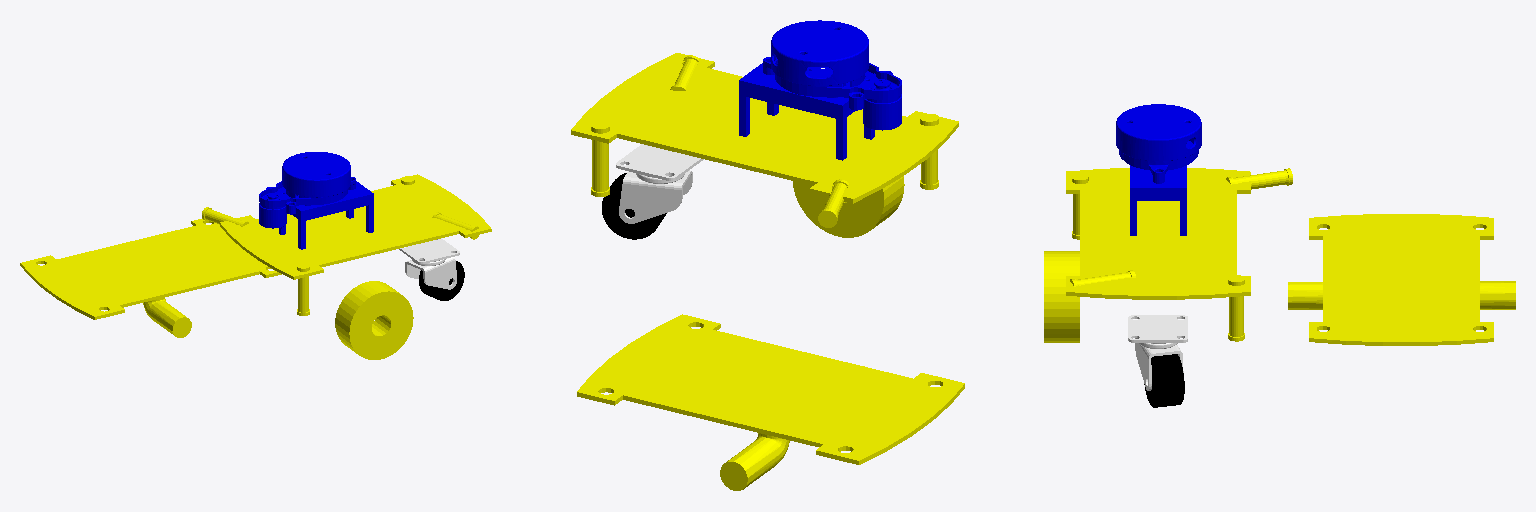
robot.urdf — ydpibot:
<?xml version="1.0" encoding="utf-8"?>
<!-- This URDF was automatically created by SolidWorks to URDF Exporter! Originally created by [author] ([email redacted]) 
     Commit Version: 1.6.0-4-g7f85cfe  Build Version: 1.6.7995.38578
     For more information, please see http://wiki.ros.org/sw_urdf_exporter -->
<robot
  name="ydpibot">
  <link
    name="base_link">
    <inertial>
      <origin
        xyz="0.093495 0.094111 0.17099"
        rpy="0 0 0" />
      <mass
        value="0.11353" />
      <inertia
        ixx="0.0002007"
        ixy="-9.7266E-06"
        ixz="4.5129E-19"
        iyy="0.00047883"
        iyz="-1.7537E-21"
        izz="0.00030078" />
    </inertial>
    <visual>
      <origin
        xyz="0 0 0"
        rpy="0 0 0" />
      <geometry>
        <mesh
          filename="package://ydpibot_description/meshes/base_link.STL" />
      </geometry>
      <material
        name="">
        <color
          rgba="255 165 0 1" />
      </material>
    </visual>
    <collision>
      <origin
        xyz="0 0 0"
        rpy="0 0 0" />
      <geometry>
        <mesh
          filename="package://ydpibot_description/meshes/base_link.STL" />
      </geometry>
    </collision>
  </link>
  <link
    name="Base_upper">
    <inertial>
      <origin
        xyz="-0.00023228 0.0015 2.7756E-17"
        rpy="0 0 0" />
      <mass
        value="0.072243" />
      <inertia
        ixx="7.9419E-05"
        ixy="7.2901E-21"
        ixz="2.2789E-19"
        iyy="0.00035752"
        iyz="-3.7269E-21"
        izz="0.00027821" />
    </inertial>
    <visual>
      <origin
        xyz="0 0 0"
        rpy="0 0 0" />
      <geometry>
        <mesh
          filename="package://ydpibot_description/meshes/Base_upper.STL" />
      </geometry>
      <material
        name="">
        <color
          rgba="255 165 0 1" />
      </material>
    </visual>
    <collision>
      <origin
        xyz="0 0 0"
        rpy="0 0 0" />
      <geometry>
        <mesh
          filename="package://ydpibot_description/meshes/Base_upper.STL" />
      </geometry>
    </collision>
  </link>
  <joint
    name="Base_upper_joint"
    type="fixed">
    <origin
      xyz="0.10092 -0.17099 0.13642"
      rpy="1.5708 0 0" />
    <parent
      link="base_link" />
    <child
      link="Base_upper" />
    <axis
      xyz="0 0 0" />
  </joint>
  <link
    name="spacer1">
    <inertial>
      <origin
        xyz="8.3267E-17 -0.017 -2.7756E-17"
        rpy="0 0 0" />
      <mass
        value="0.0038202" />
      <inertia
        ixx="7.5881E-07"
        ixy="4.9502E-23"
        ixz="0"
        iyy="5.1484E-08"
        iyz="-2.6834E-23"
        izz="7.5881E-07" />
    </inertial>
    <visual>
      <origin
        xyz="0 0 0"
        rpy="0 0 0" />
      <geometry>
        <mesh
          filename="package://ydpibot_description/meshes/spacer1.STL" />
      </geometry>
      <material
        name="">
        <color
          rgba="139 64 0 1" />
      </material>
    </visual>
    <collision>
      <origin
        xyz="0 0 0"
        rpy="0 0 0" />
      <geometry>
        <mesh
          filename="package://ydpibot_description/meshes/spacer1.STL" />
      </geometry>
    </collision>
  </link>
  <joint
    name="spacer1_joint"
    type="continuous">
    <origin
      xyz="0.084615 0 -0.055"
      rpy="0 0.33559 0" />
    <parent
      link="Base_upper" />
    <child
      link="spacer1" />
    <axis
      xyz="0 1 0" />
  </joint>
  <link
    name="spacer2">
    <inertial>
      <origin
        xyz="1.3878E-16 -0.017 5.5511E-17"
        rpy="0 0 0" />
      <mass
        value="0.0038202" />
      <inertia
        ixx="7.5881E-07"
        ixy="3.3914E-23"
        ixz="0"
        iyy="5.1484E-08"
        iyz="-2.2598E-23"
        izz="7.5881E-07" />
    </inertial>
    <visual>
      <origin
        xyz="0 0 0"
        rpy="0 0 0" />
      <geometry>
        <mesh
          filename="package://ydpibot_description/meshes/spacer2.STL" />
      </geometry>
      <material
        name="">
        <color
          rgba="139 64 0 1" />
      </material>
    </visual>
    <collision>
      <origin
        xyz="0 0 0"
        rpy="0 0 0" />
      <geometry>
        <mesh
          filename="package://ydpibot_description/meshes/spacer2.STL" />
      </geometry>
    </collision>
  </link>
  <joint
    name="spacer2_joint"
    type="continuous">
    <origin
      xyz="0.084615 0 0.055"
      rpy="0 0.33674 0" />
    <parent
      link="Base_upper" />
    <child
      link="spacer2" />
    <axis
      xyz="0 1 0" />
  </joint>
  <link
    name="spacer3">
    <inertial>
      <origin
        xyz="0 -0.017 0"
        rpy="0 0 0" />
      <mass
        value="0.0038202" />
      <inertia
        ixx="7.5881E-07"
        ixy="2.3253E-23"
        ixz="0"
        iyy="5.1484E-08"
        iyz="-1.7306E-23"
        izz="7.5881E-07" />
    </inertial>
    <visual>
      <origin
        xyz="0 0 0"
        rpy="0 0 0" />
      <geometry>
        <mesh
          filename="package://ydpibot_description/meshes/spacer3.STL" />
      </geometry>
      <material
        name="">
        <color
          rgba="139 64 0 1" />
      </material>
    </visual>
    <collision>
      <origin
        xyz="0 0 0"
        rpy="0 0 0" />
      <geometry>
        <mesh
          filename="package://ydpibot_description/meshes/spacer3.STL" />
      </geometry>
    </collision>
  </link>
  <joint
    name="spacer3_joint"
    type="continuous">
    <origin
      xyz="-0.084615 0 -0.055"
      rpy="0 0.33674 0" />
    <parent
      link="Base_upper" />
    <child
      link="spacer3" />
    <axis
      xyz="0 1 0" />
  </joint>
  <link
    name="spacer4">
    <inertial>
      <origin
        xyz="-2.4286E-17 -0.017 2.7756E-17"
        rpy="0 0 0" />
      <mass
        value="0.0038202" />
      <inertia
        ixx="7.5881E-07"
        ixy="1.4302E-23"
        ixz="0"
        iyy="5.1484E-08"
        iyz="3.294E-24"
        izz="7.5881E-07" />
    </inertial>
    <visual>
      <origin
        xyz="0 0 0"
        rpy="0 0 0" />
      <geometry>
        <mesh
          filename="package://ydpibot_description/meshes/spacer4.STL" />
      </geometry>
      <material
        name="">
        <color
          rgba="139 64 0 1" />
      </material>
    </visual>
    <collision>
      <origin
        xyz="0 0 0"
        rpy="0 0 0" />
      <geometry>
        <mesh
          filename="package://ydpibot_description/meshes/spacer4.STL" />
      </geometry>
    </collision>
  </link>
  <joint
    name="spacer4_joint"
    type="continuous">
    <origin
      xyz="-0.084615 0 0.055"
      rpy="0 0.14715 0" />
    <parent
      link="Base_upper" />
    <child
      link="spacer4" />
    <axis
      xyz="0 1 0" />
  </joint>
  <link
    name="Lidar">
    <inertial>
      <origin
        xyz="-0.010012 -1.8596E-15 -0.015783"
        rpy="0 0 0" />
      <mass
        value="0.032124" />
      <inertia
        ixx="6.0421E-06"
        ixy="-8.4683E-20"
        ixz="8.0983E-21"
        iyy="1.7716E-05"
        iyz="2.0381E-21"
        izz="2.1195E-05" />
    </inertial>
    <visual>
      <origin
        xyz="0 0 0"
        rpy="0 0 0" />
      <geometry>
        <mesh
          filename="package://ydpibot_description/meshes/Lidar.STL" />
      </geometry>
      <material
        name="">
        <color
          rgba="0 0 255 1" />
      </material>
    </visual>
    <collision>
      <origin
        xyz="0 0 0"
        rpy="0 0 0" />
      <geometry>
        <mesh
          filename="package://ydpibot_description/meshes/Lidar.STL" />
      </geometry>
    </collision>
  </link>
  <joint
    name="Lidar_joint"
    type="fixed">
    <origin
      xyz="-0.039725 0.04948 0"
      rpy="1.5708 0 -3.1416" />
    <parent
      link="Base_upper" />
    <child
      link="Lidar" />
    <axis
      xyz="0 0 0" />
  </joint>
  <link
    name="Wheel1">
    <inertial>
      <origin
        xyz="0 -1.3878E-17 0.0125"
        rpy="0 0 0" />
      <mass
        value="0.075104" />
      <inertia
        ixx="2.5621E-05"
        ixy="-2.9995E-39"
        ixz="-4.4116E-23"
        iyy="2.5621E-05"
        iyz="-7.1293E-38"
        izz="4.3419E-05" />
    </inertial>
    <visual>
      <origin
        xyz="0 0 0"
        rpy="0 0 0" />
      <geometry>
        <mesh
          filename="package://ydpibot_description/meshes/Wheel1.STL" />
      </geometry>
      <material
        name="">
        <color
          rgba="2551 255 0 1" />
      </material>
    </visual>
    <collision>
      <origin
        xyz="0 0 0"
        rpy="0 0 0" />
      <geometry>
        <mesh
          filename="package://ydpibot_description/meshes/Wheel1.STL" />
      </geometry>
    </collision>
  </link>
  <joint
    name="Wheel1_joint"
    type="continuous">
    <origin
      xyz="0.080916 -0.090994 0.079422"
      rpy="1.5708 0 0" />
    <parent
      link="base_link" />
    <child
      link="Wheel1" />
    <axis
      xyz="0 0 1" />
  </joint>
  <link
    name="Wheel2">
    <inertial>
      <origin
        xyz="0 0 0.0125"
        rpy="0 0 0" />
      <mass
        value="0.075104" />
      <inertia
        ixx="2.5621E-05"
        ixy="-2.9995E-39"
        ixz="-5.4594E-37"
        iyy="2.5621E-05"
        iyz="-7.1293E-38"
        izz="4.3419E-05" />
    </inertial>
    <visual>
      <origin
        xyz="0 0 0"
        rpy="0 0 0" />
      <geometry>
        <mesh
          filename="package://ydpibot_description/meshes/Wheel2.STL" />
      </geometry>
      <material
        name="">
        <color
          rgba="255 255 0 1" />
      </material>
    </visual>
    <collision>
      <origin
        xyz="0 0 0"
        rpy="0 0 0" />
      <geometry>
        <mesh
          filename="package://ydpibot_description/meshes/Wheel2.STL" />
      </geometry>
    </collision>
  </link>
  <joint
    name="Wheel2_joint"
    type="continuous">
    <origin
      xyz="0.080916 -0.22599 0.079422"
      rpy="1.5708 0 0" />
    <parent
      link="base_link" />
    <child
      link="Wheel2" />
    <axis
      xyz="0 0 1" />
  </joint>
  <link
    name="Caster Wheel Base">
    <inertial>
      <origin
        xyz="0.017052 0.003709 -0.0125"
        rpy="0 0 0" />
      <mass
        value="0.044833" />
      <inertia
        ixx="4.8267E-06"
        ixy="-4.6606E-24"
        ixz="-5.0406E-22"
        iyy="9.3882E-06"
        iyz="-4.8531E-22"
        izz="4.8267E-06" />
    </inertial>
    <visual>
      <origin
        xyz="0 0 0"
        rpy="0 0 0" />
      <geometry>
        <mesh
          filename="package://ydpibot_description/meshes/Caster Wheel Base.STL" />
      </geometry>
      <material
        name="">
        <color
          rgba="128 128 128 1" />
      </material>
    </visual>
    <collision>
      <origin
        xyz="0 0 0"
        rpy="0 0 0" />
      <geometry>
        <mesh
          filename="package://ydpibot_description/meshes/Caster Wheel Base.STL" />
      </geometry>
    </collision>
  </link>
  <joint
    name="Caster Wheel Base_joint"
    type="fixed">
    <origin
      xyz="0.15791 -0.18349 0.093422"
      rpy="1.5708 0 0" />
    <parent
      link="base_link" />
    <child
      link="Caster Wheel Base" />
    <axis
      xyz="0 0 0" />
  </joint>
  <link
    name="Caster Wheel cage">
    <inertial>
      <origin
        xyz="0.019414 -0.0053453 -0.0125"
        rpy="0 0 0" />
      <mass
        value="0.056621" />
      <inertia
        ixx="7.5423E-06"
        ixy="8.202E-07"
        ixz="9.6169E-12"
        iyy="1.077E-05"
        iyz="-4.6142E-11"
        izz="8.0977E-06" />
    </inertial>
    <visual>
      <origin
        xyz="0 0 0"
        rpy="0 0 0" />
      <geometry>
        <mesh
          filename="package://ydpibot_description/meshes/Caster Wheel cage.STL" />
      </geometry>
      <material
        name="">
        <color
          rgba="211 211 211 1" />
      </material>
    </visual>
    <collision>
      <origin
        xyz="0 0 0"
        rpy="0 0 0" />
      <geometry>
        <mesh
          filename="package://ydpibot_description/meshes/Caster Wheel cage.STL" />
      </geometry>
    </collision>
  </link>
  <joint
    name="Caster Wheel cage_joint"
    type="continuous">
    <origin
      xyz="0.0037189 -0.004 0.0039088"
      rpy="0 0.25588 0" />
    <parent
      link="Caster Wheel Base" />
    <child
      link="Caster Wheel cage" />
    <axis
      xyz="0 0 0" />
  </joint>
  <link
    name="Caster Wheel">
    <inertial>
      <origin
        xyz="1.3878E-17 0 2.7756E-17"
        rpy="0 0 0" />
      <mass
        value="0.017472" />
      <inertia
        ixx="2.2415E-06"
        ixy="9.4299E-23"
        ixz="-6.2866E-22"
        iyy="2.2415E-06"
        iyz="-1.7999E-21"
        izz="3.5831E-06" />
    </inertial>
    <visual>
      <origin
        xyz="0 0 0"
        rpy="0 0 0" />
      <geometry>
        <mesh
          filename="package://ydpibot_description/meshes/Caster Wheel.STL" />
      </geometry>
      <material
        name="">
        <color
          rgba="0 0 0 1" />
      </material>
    </visual>
    <collision>
      <origin
        xyz="0 0 0"
        rpy="0 0 0" />
      <geometry>
        <mesh
          filename="package://ydpibot_description/meshes/Caster Wheel.STL" />
      </geometry>
    </collision>
  </link>
  <joint
    name="Caster Wheel_joint"
    type="fixed">
    <origin
      xyz="0.033052 -0.023 -0.0125"
      rpy="0 0 1.7635" />
    <parent
      link="Caster Wheel cage" />
    <child
      link="Caster Wheel" />
    <axis
      xyz="0 0 0" />
  </joint>
</robot>

--- Render facts (derived) ---
Views: 3 orthographic renders of the robot side by side, from view 1: azimuth 30°, elevation 25°; view 2: azimuth 150°, elevation 25°; view 3: azimuth 270°, elevation 25°.
Model ydpibot with 12 links and 11 joints (7 continuous, 4 fixed), rooted at base_link, posed every joint at zero.
Links seen in each view (by area): view 1: base_link, Base_upper, Lidar, Wheel2, Caster Wheel cage, Caster Wheel Base, Caster Wheel, spacer4; view 2: base_link, Base_upper, Lidar, Wheel2, Caster Wheel cage, Caster Wheel Base, Caster Wheel, spacer1, spacer4, spacer3; view 3: base_link, Base_upper, Lidar, Wheel2, Caster Wheel, Caster Wheel Base, Caster Wheel cage, spacer1, spacer3.
Boxes of the visible links, box(x1,y1,x2,y2) form: base_link: box(20, 219, 281, 337); Base_upper: box(220, 174, 491, 279); Lidar: box(259, 152, 373, 249); Wheel2: box(335, 281, 413, 359); Caster Wheel cage: box(405, 257, 456, 289); Caster Wheel Base: box(399, 238, 459, 263); Caster Wheel: box(419, 261, 464, 300); spacer4: box(297, 263, 309, 315); base_link: box(577, 314, 964, 490); Base_upper: box(571, 53, 958, 203); Lidar: box(739, 20, 901, 160); Wheel2: box(793, 176, 904, 237); Caster Wheel cage: box(619, 170, 692, 223); Caster Wheel Base: box(616, 144, 703, 180); Caster Wheel: box(602, 173, 666, 239); spacer1: box(591, 121, 609, 196); spacer4: box(920, 114, 938, 189); spacer3: box(818, 179, 849, 227); base_link: box(1288, 214, 1515, 345); Base_upper: box(1066, 168, 1250, 299); Lidar: box(1116, 104, 1201, 235); Wheel2: box(1044, 251, 1079, 342); Caster Wheel: box(1144, 354, 1184, 407); Caster Wheel Base: box(1128, 315, 1187, 343); Caster Wheel cage: box(1135, 338, 1183, 390); spacer1: box(1228, 275, 1244, 341); spacer3: box(1226, 168, 1292, 189).
Bounding box of the posed robot: 0.3198 × 0.331 × 0.1839 m (x, y, z).
11 mesh visuals loaded from 12 distinct referenced files (11 binary STL); not drawn: 1 (reference not matched to a file when rendering).
